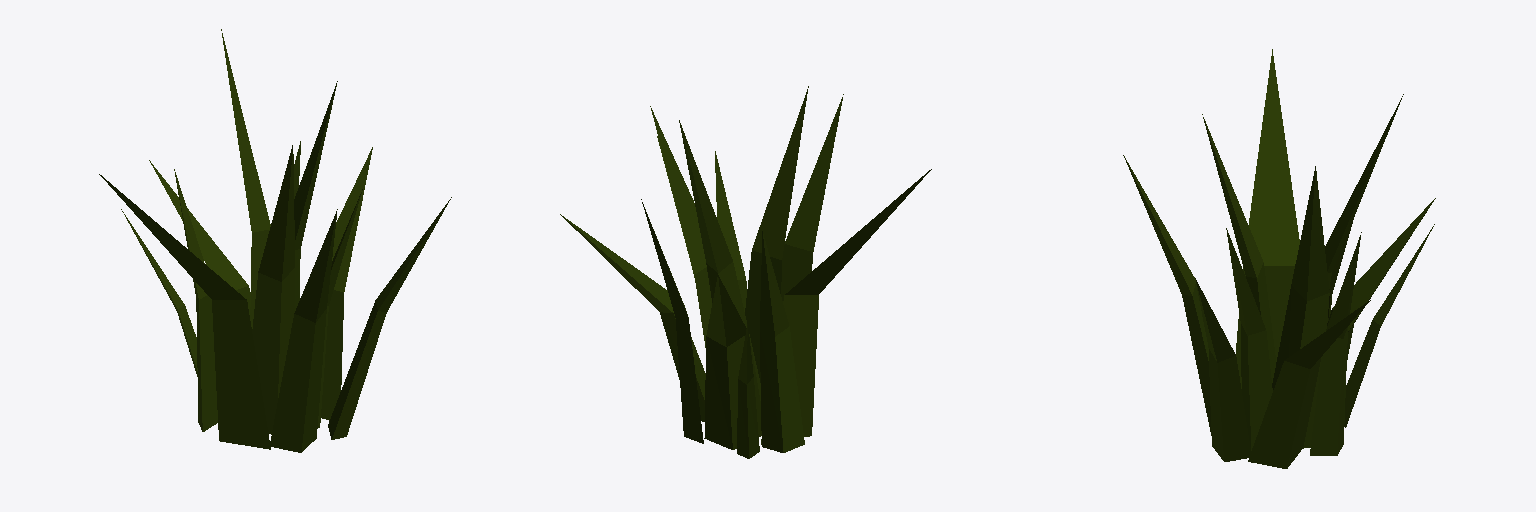
The model's file is grass13.obj.
The picture shows the model from 3 angles: view 1: azimuth 30°, elevation 25°; view 2: azimuth 150°, elevation 25°; view 3: azimuth 270°, elevation 25°; orthographic projection.
Parts seen in each view (by area): view 1: Grass_Cylinder.068; view 2: Grass_Cylinder.068; view 3: Grass_Cylinder.068.
Boxes of the visible parts, x1=… form: Grass_Cylinder.068: x1=99, y1=29, x2=451, y2=452; Grass_Cylinder.068: x1=560, y1=86, x2=931, y2=458; Grass_Cylinder.068: x1=1123, y1=49, x2=1435, y2=468.
Size of the model in its own units: 0.8441 by 0.8757 by 0.7057.